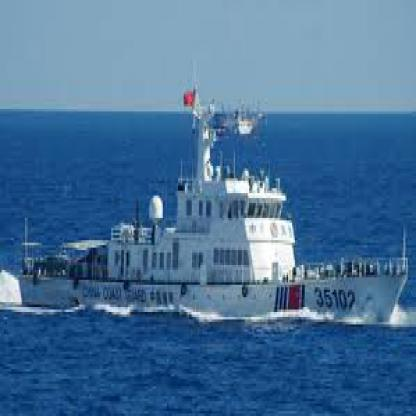fish-b: (9, 67, 414, 337)
